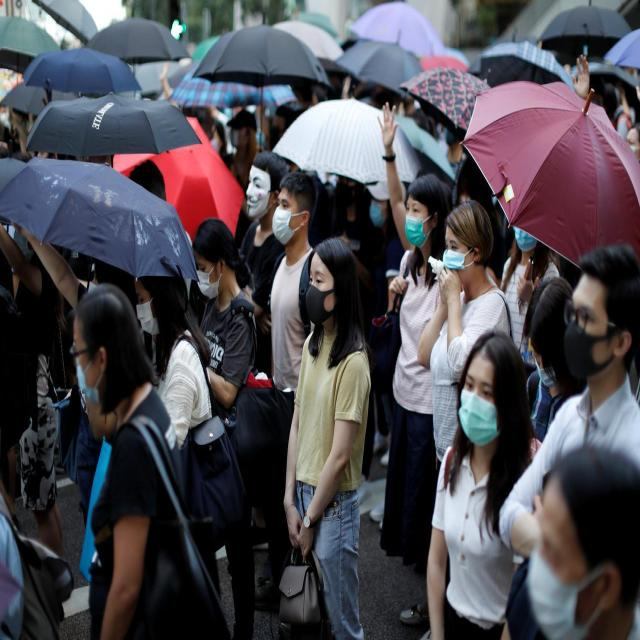face: (526, 479, 612, 639), (558, 245, 639, 387), (71, 284, 136, 409), (456, 339, 526, 449), (529, 276, 575, 390), (301, 239, 359, 328), (441, 199, 495, 283), (135, 262, 183, 340), (271, 171, 320, 245), (403, 175, 446, 253), (193, 220, 236, 298)
